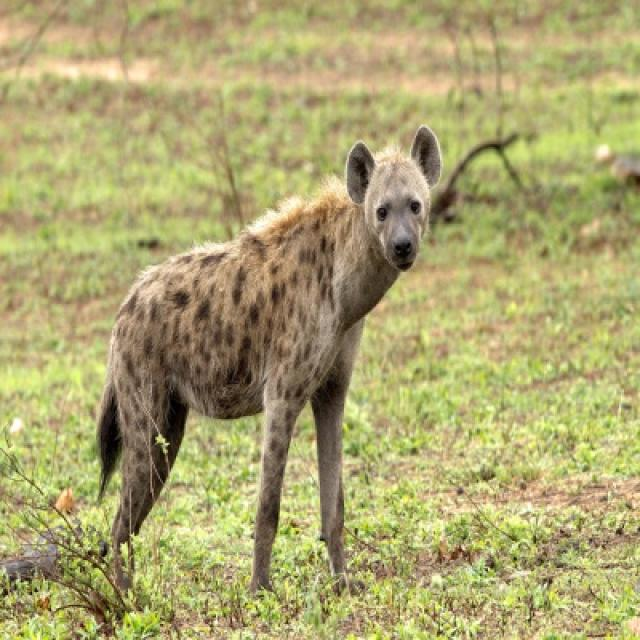hyena: (94, 126, 443, 600)
